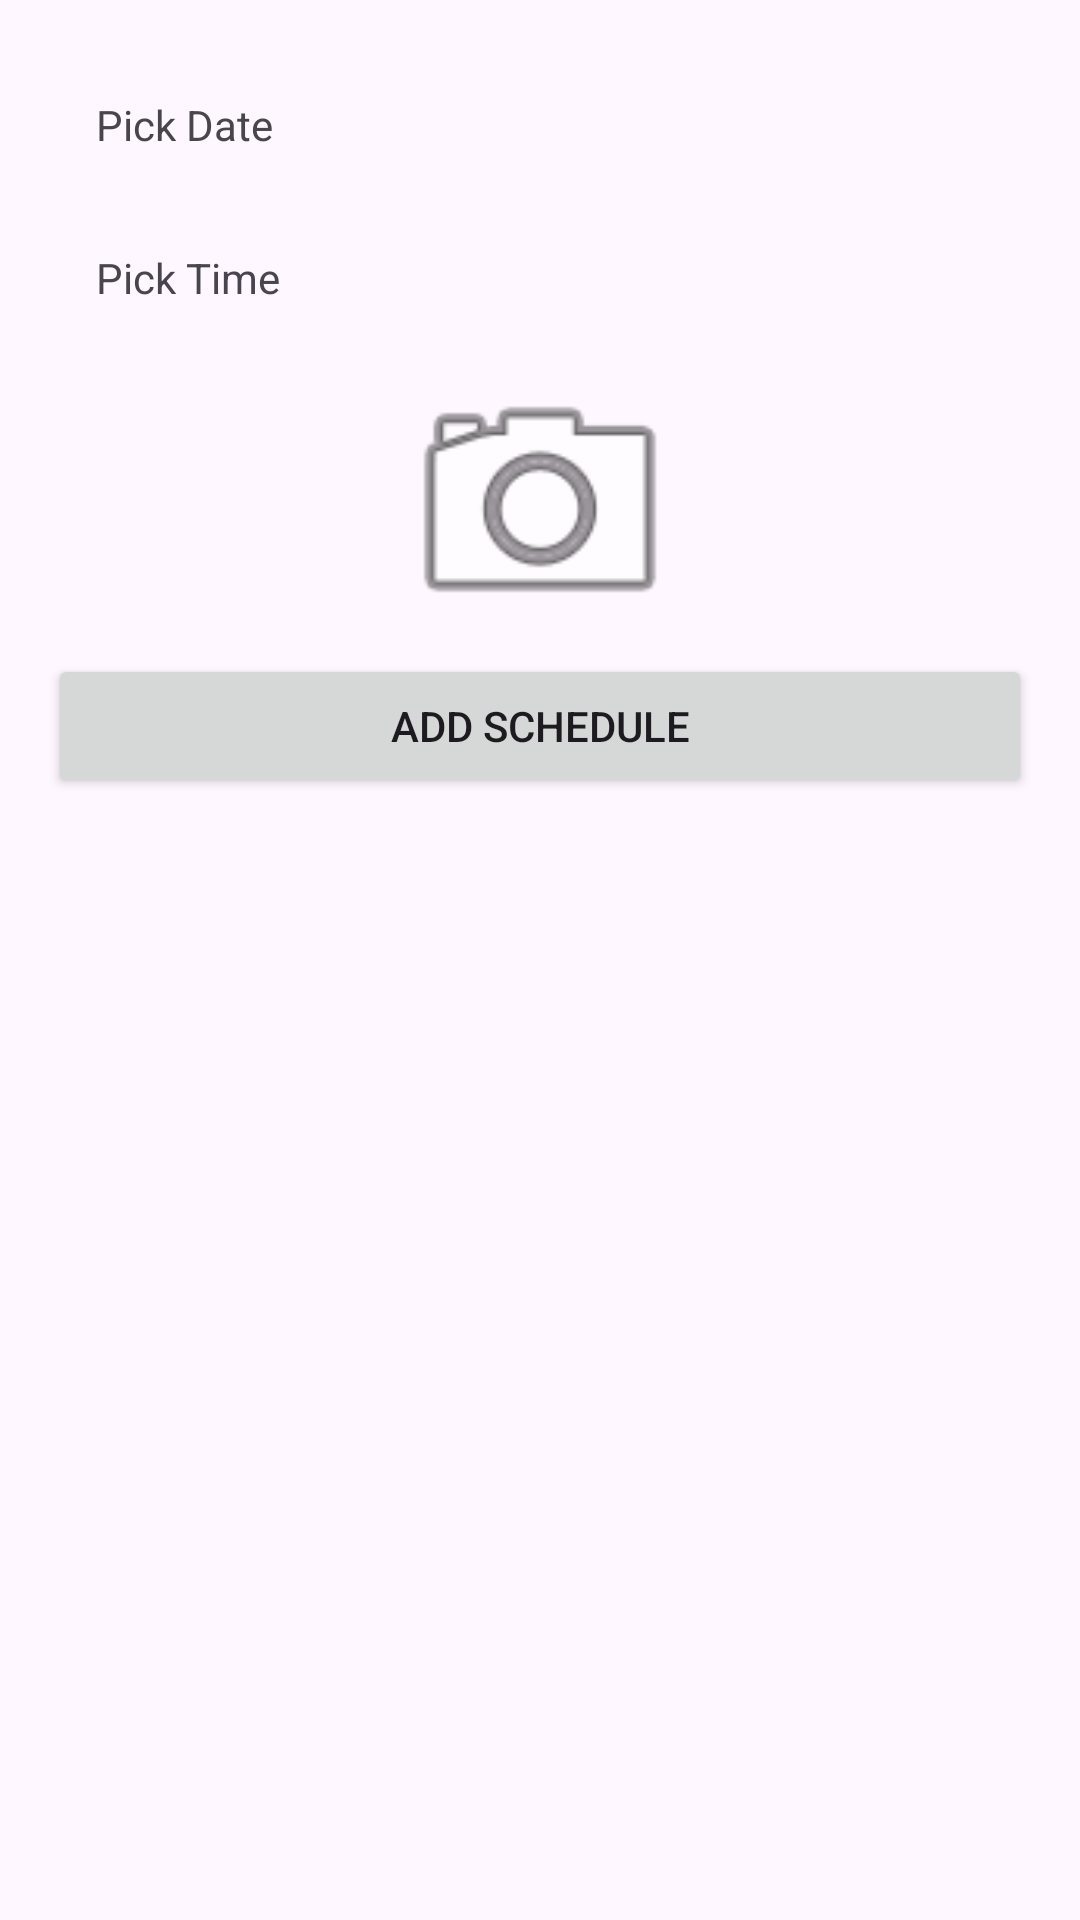

Screen size 1080 x 1920. Icon name, then its box in pixels as detection(x1, y1, x2, y2):
camera: detection(424, 407, 656, 592)
